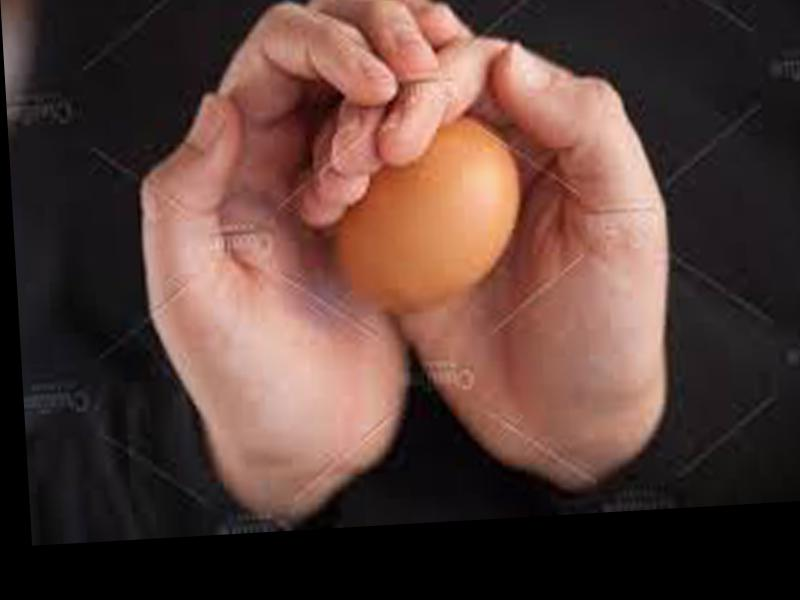Eggs: (319, 119, 527, 317)
